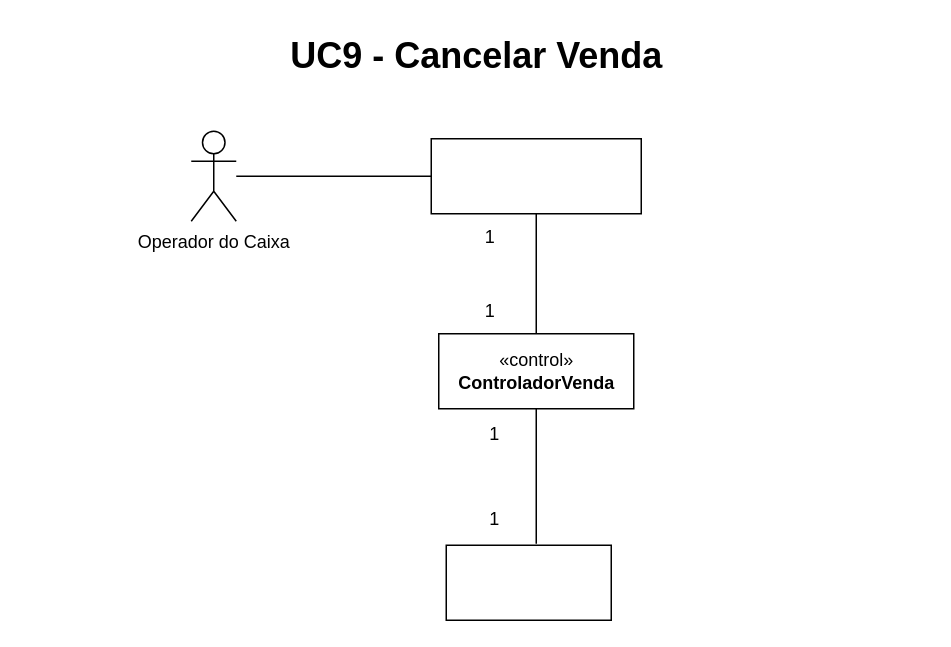
Some shapes in this 951 by 647 pixel diagram are drawn without their labels. The shapes that lost their labels are listed below. From the top down, each one's centre as x and y in pixels, then its label:
point (535, 175): «boundary» CancelarVenda
point (528, 582): «entity» Venda
